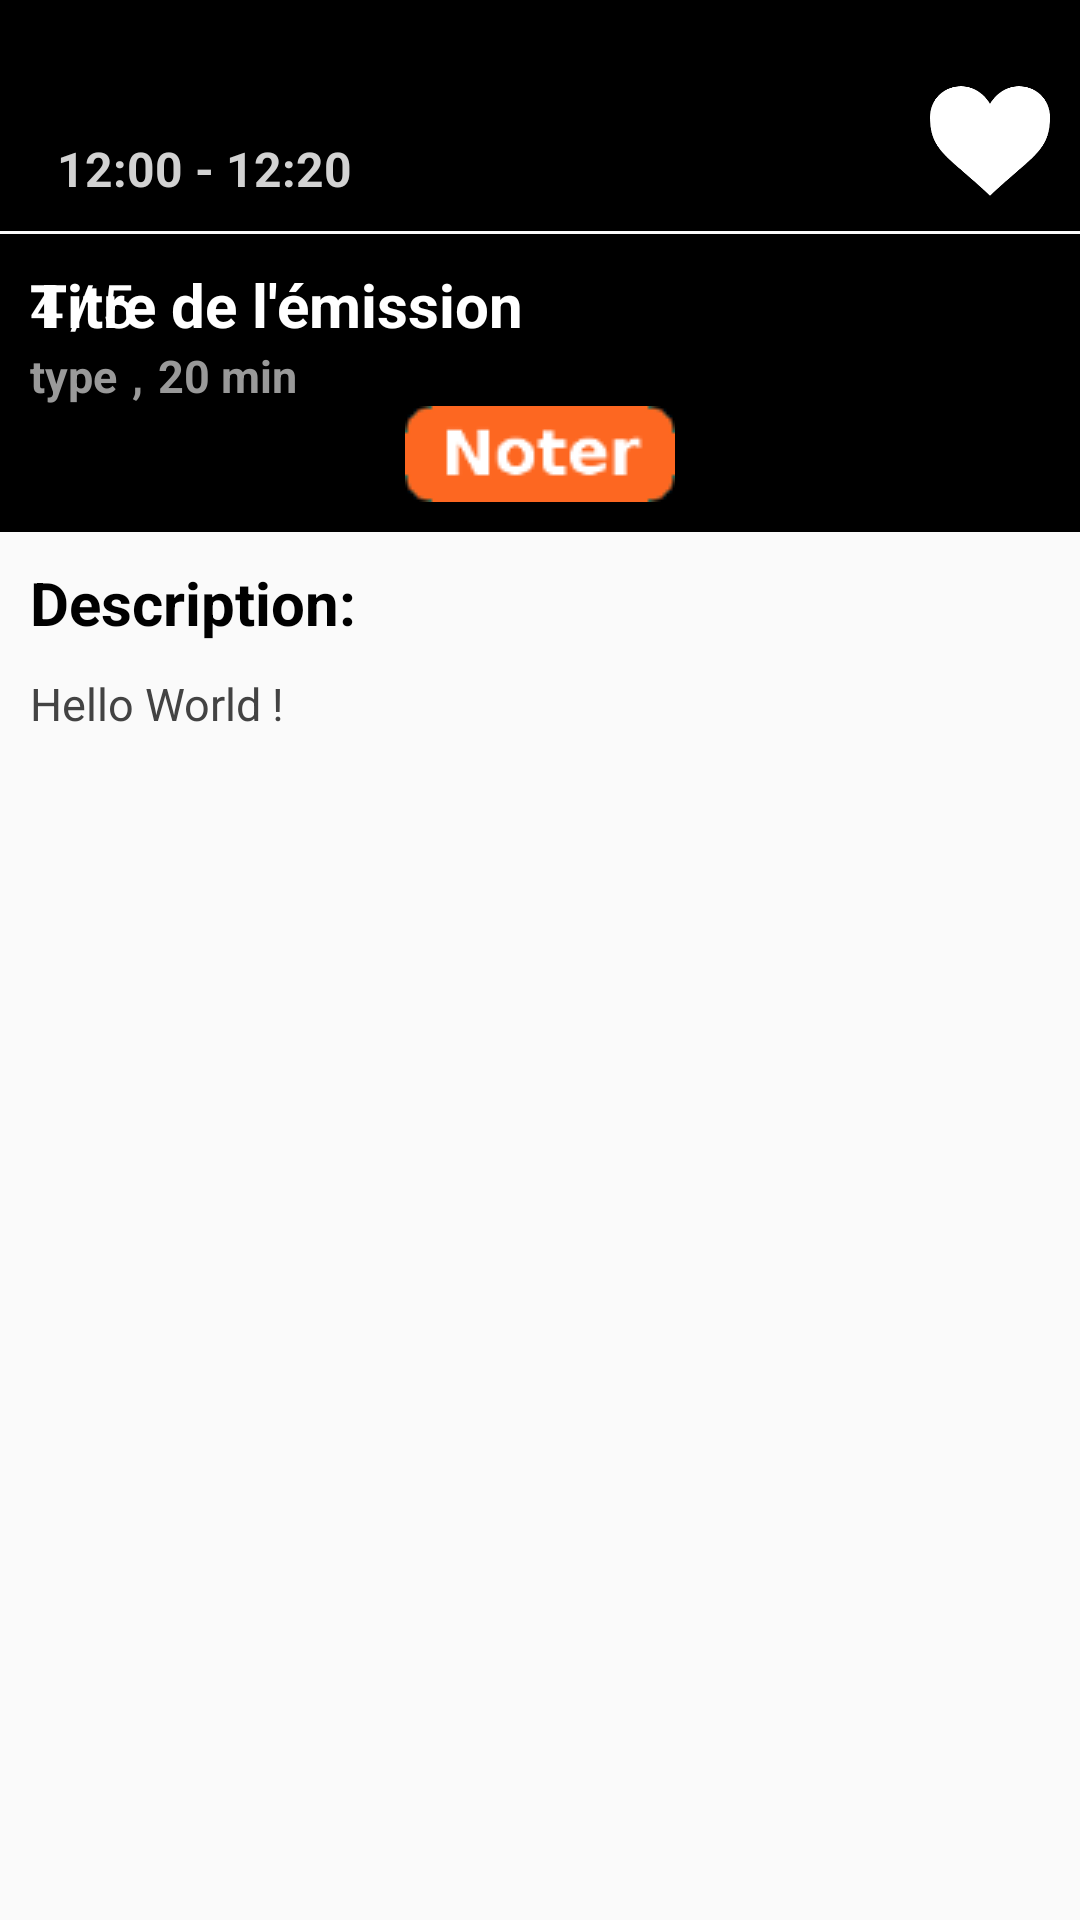

Where to tap for icons on this 1080w x 1920h app screen, as (x=x, y=y):
like: (x=990, y=141)
